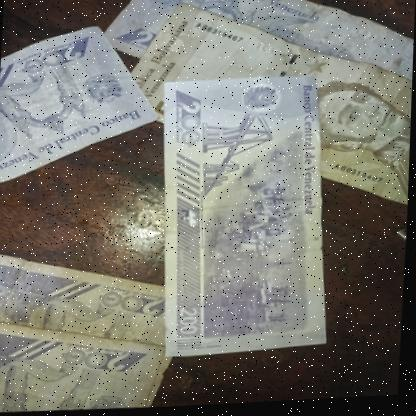five-front-vef: (102, 0, 416, 221)
ten-back-vef: (93, 0, 416, 148), (0, 241, 198, 391), (0, 21, 165, 192), (0, 312, 170, 415)
two_hundred-back-vef: (149, 75, 343, 362)
